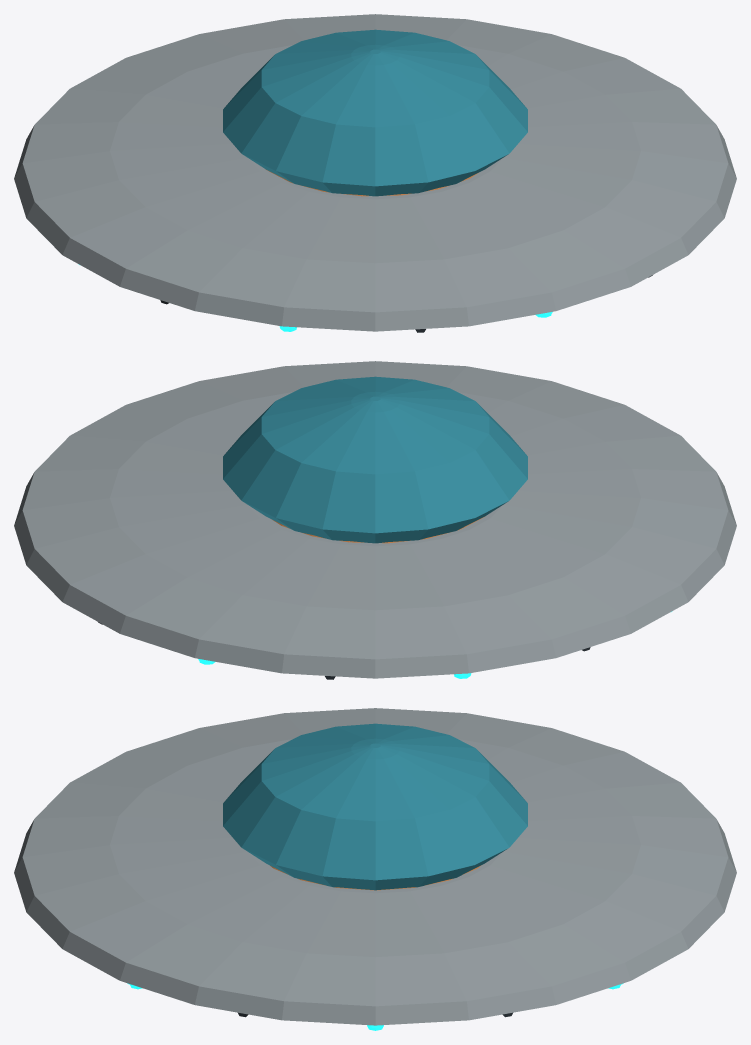
The model's file is ufo-v1.glb.
3 views of the same model, one above another, from view 1: azimuth 30°, elevation 25°; view 2: azimuth 150°, elevation 25°; view 3: azimuth 270°, elevation 25° (orthographic).
Visible parts, largest first — view 1: ufo-disc; view 2: ufo-disc; view 3: ufo-disc.
Part boxes in pixels (x1,y1,x2,y2): ufo-disc: (14,14,736,332); ufo-disc: (14,361,736,679); ufo-disc: (14,708,736,1030).
Size of the model in its own units: 29.4 by 10.27 by 29.4.
